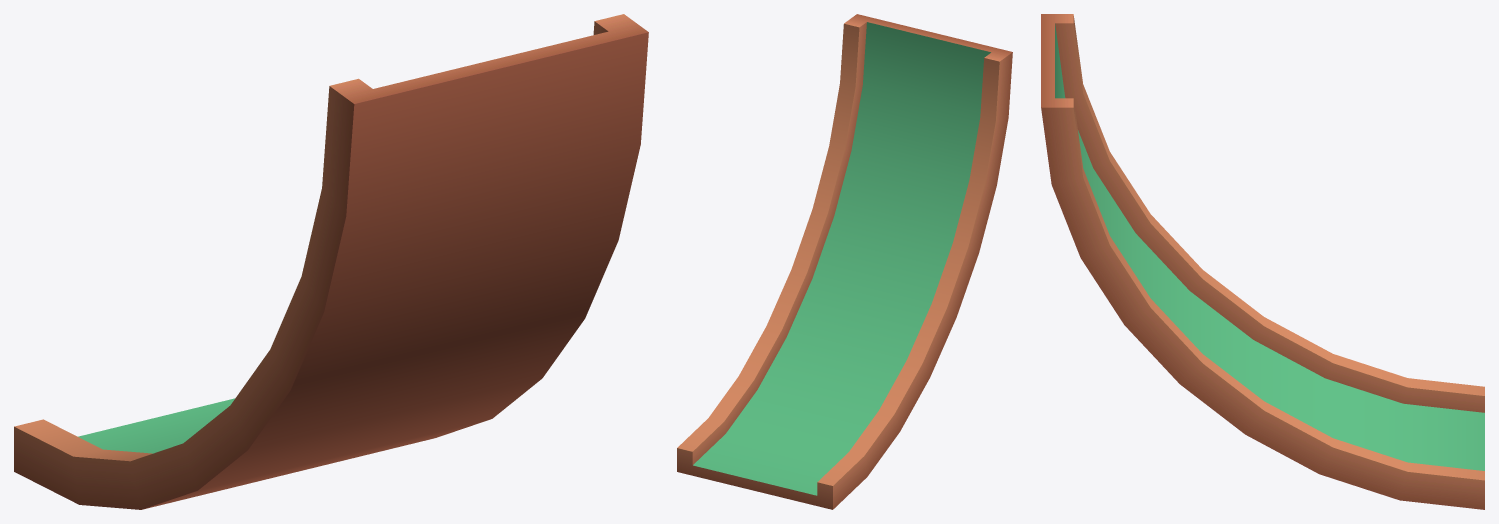
Rendered from spline-default-straight-bend.glb.
The picture shows the model from 3 angles, left to right: view 1: azimuth 30°, elevation 25°; view 2: azimuth 150°, elevation 25°; view 3: azimuth 270°, elevation 25°; orthographic projection. The views are drawn at different scales.
Parts seen in each view (by area): view 1: spline-default-straight-bend; view 2: spline-default-straight-bend; view 3: spline-default-straight-bend.
Part boxes in pixels (<box>): spline-default-straight-bend: <box>14,14,648,509</box>; spline-default-straight-bend: <box>677,14,1012,509</box>; spline-default-straight-bend: <box>1041,14,1484,509</box>.
Bounding box in the file's own units: 0.9998 × 2 × 2.
1 material, 1 textured.
